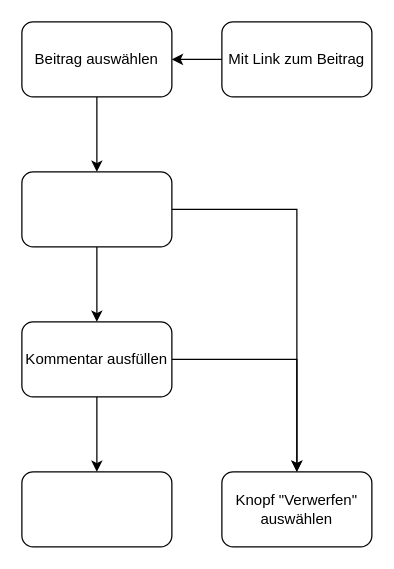
Image size: 394x569. Some labels were removed from this diagram. The centre of each missing label's shape, as x and y in pixels:
Knopf "Erstellen" auswählen: (96,509)
Knopf "Neuer Kommentar" auswählen: (96,209)
